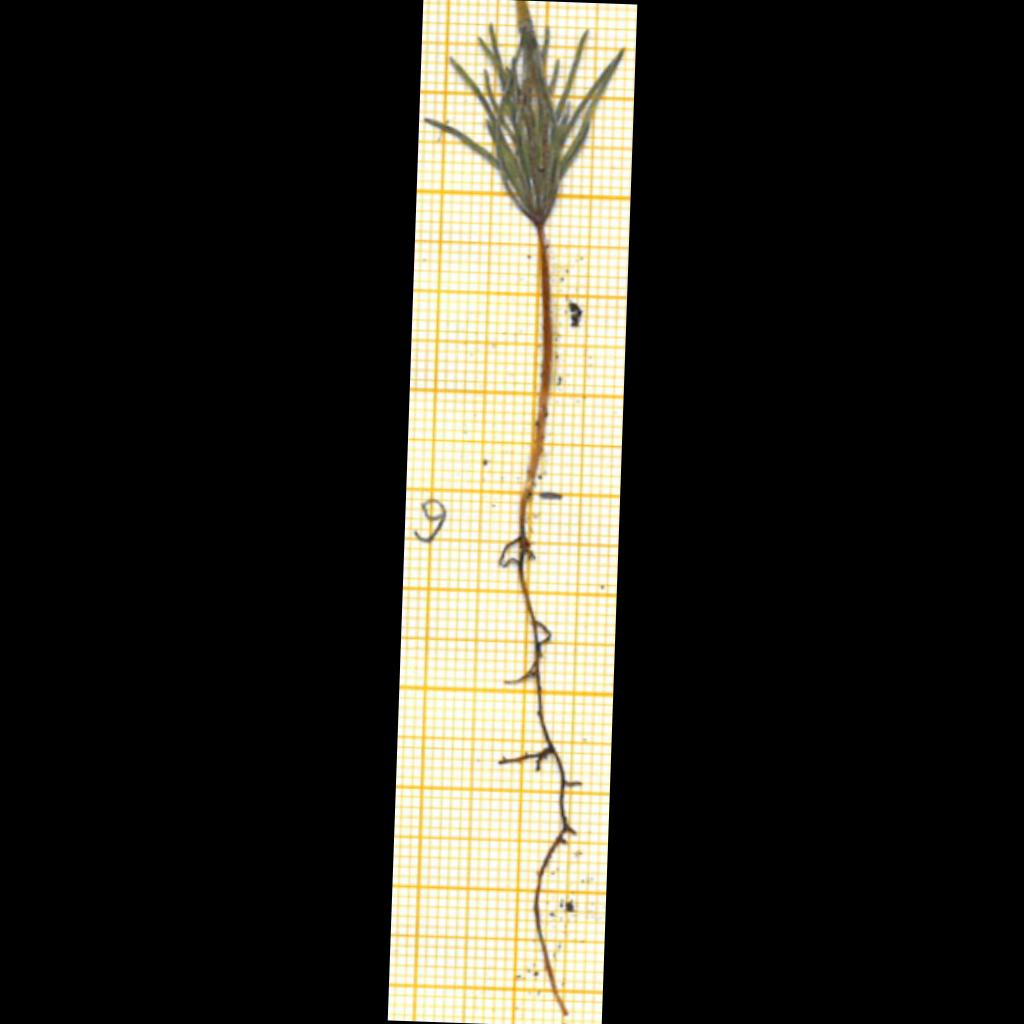flowerPinus: (425, 0, 623, 227)
rootPinus: (499, 484, 580, 1018)
stemPinus: (528, 227, 553, 493)
